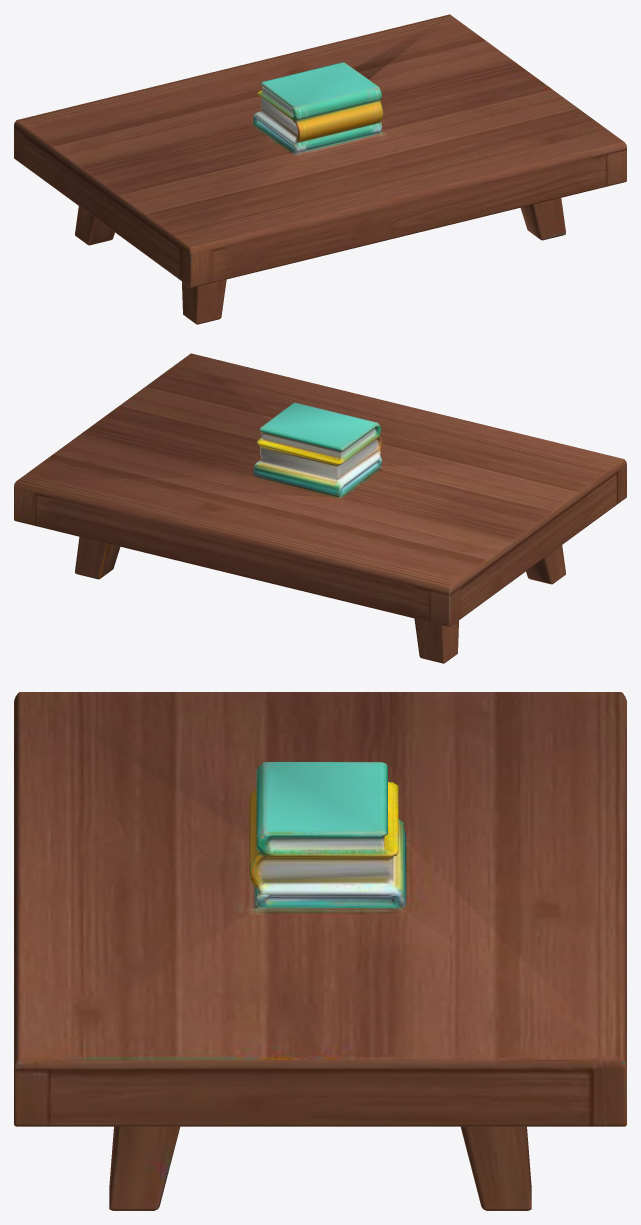
File: coffeetable.glb
3 views of the same model, one above another, from view 1: azimuth 30°, elevation 25°; view 2: azimuth 150°, elevation 25°; view 3: azimuth 270°, elevation 25° (orthographic). The views are drawn at different scales.
Size of the model in its own units: 1.9 by 0.6223 by 1.33.
1 material, 1 textured.
